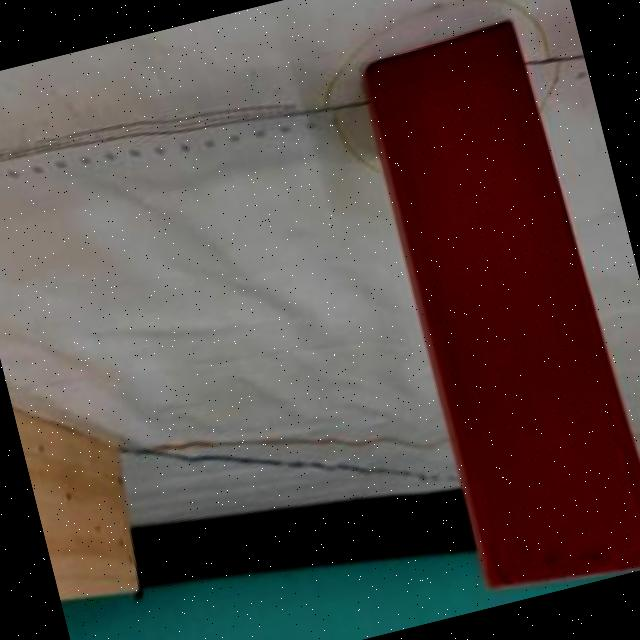redbox: (355, 15, 640, 607)
